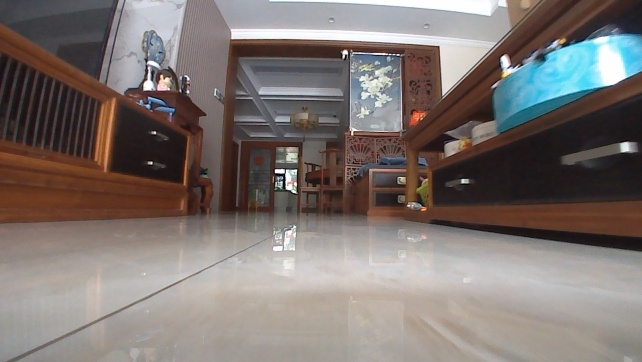TV_stand1: (0, 20, 193, 225)
dining_table: (295, 144, 343, 215)
tea_table1: (391, 0, 641, 241)
